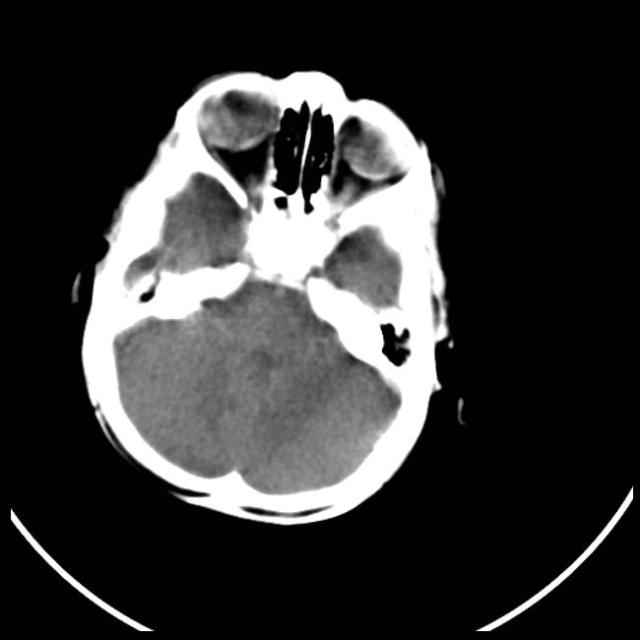lesion: (73, 64, 459, 528)
